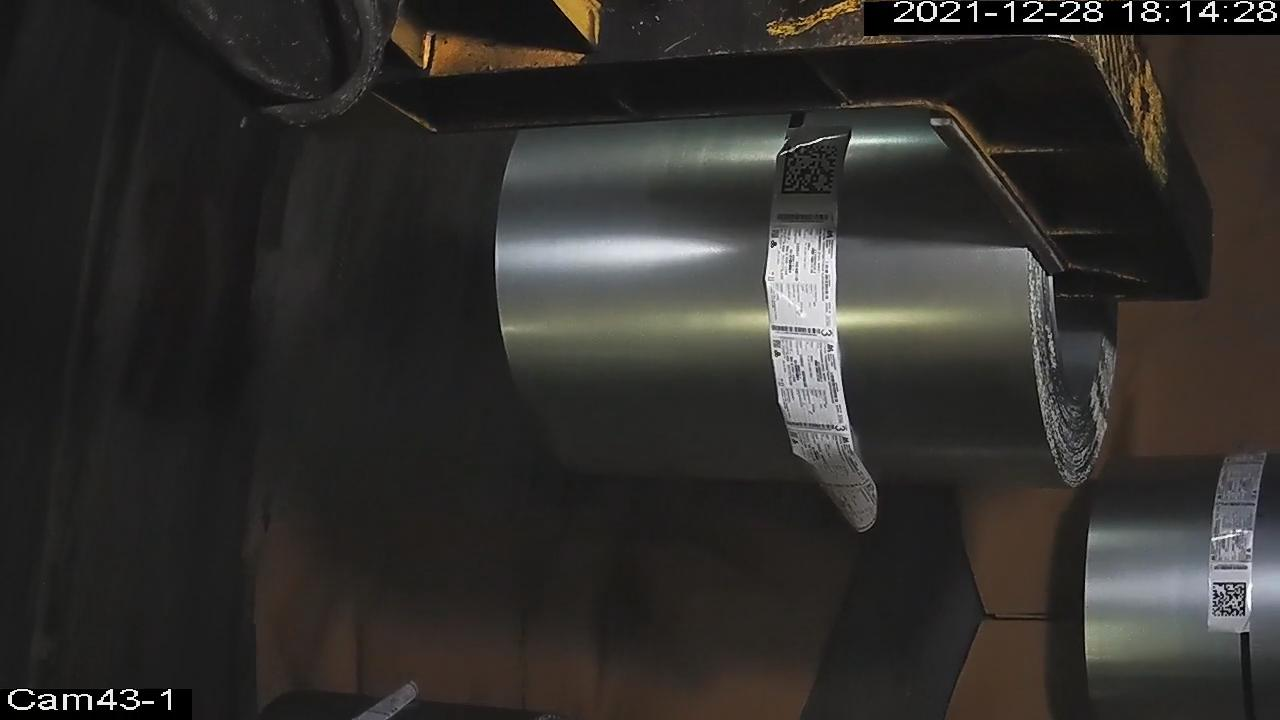data matrix: (780, 140, 843, 197), (1210, 581, 1249, 621)
